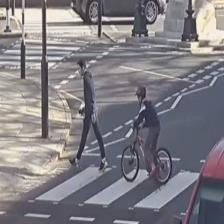person: (68, 58, 108, 171), (132, 86, 160, 178)
